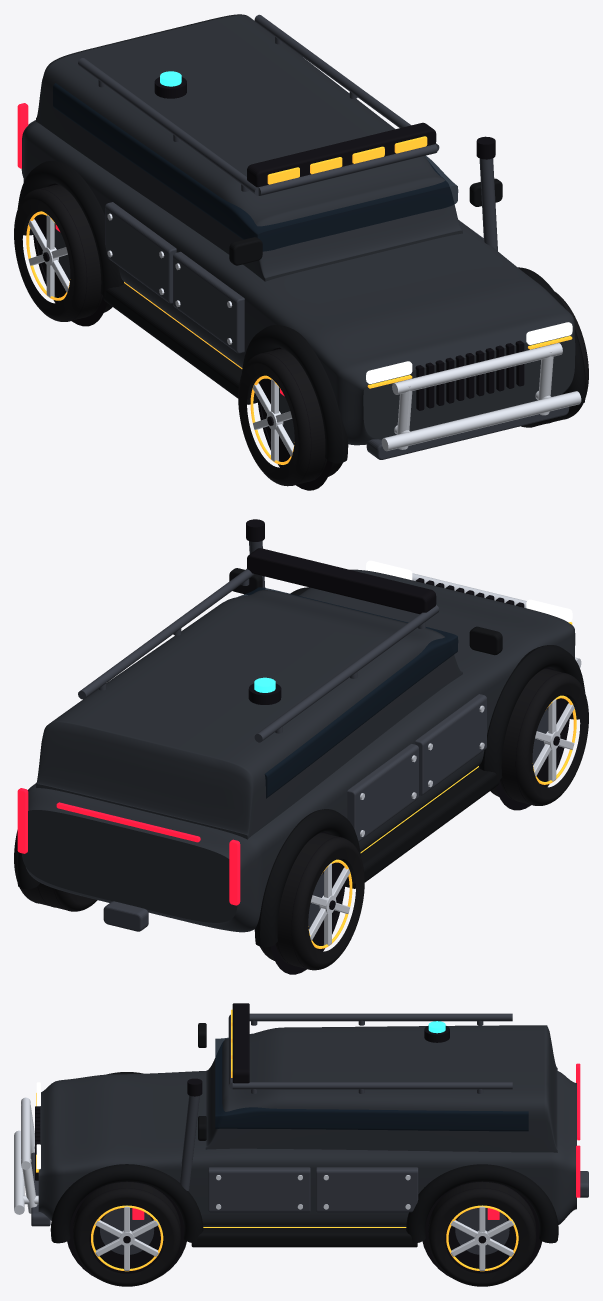
File: bastion.glb
3 views of the same model, one above another, from view 1: azimuth 30°, elevation 25°; view 2: azimuth 150°, elevation 25°; view 3: azimuth 270°, elevation 25° (orthographic). The views are drawn at different scales.
Visible parts, largest first — view 1: paint, gunmetal, paint2, rubber (×3), glass, carbon, chrome (×3), light_amber, light_head, neon; view 2: paint, rubber (×3), gunmetal, paint2, carbon, glass, chrome (×3), light_tail, light_head; view 3: paint, gunmetal (×3), paint2, rubber (×2), glass, carbon, chrome (×3), neon_soft (×2), light_tail.
Boxes of the visible parts, x1,y1,x2,y2 form: paint: (21, 14, 575, 445); gunmetal: (78, 14, 569, 459); paint2: (17, 161, 585, 463); rubber (×3): (14, 185, 588, 486); glass: (53, 83, 458, 251); carbon: (33, 77, 524, 490); chrome (×3): (28, 213, 581, 461); light_amber: (267, 136, 427, 184); light_head: (366, 322, 572, 383); neon: (124, 282, 572, 388); paint: (22, 569, 575, 932); rubber (×3): (14, 668, 588, 970); gunmetal: (78, 541, 486, 931); paint2: (17, 568, 585, 947); carbon: (246, 519, 569, 974); glass: (238, 587, 458, 798); chrome (×3): (309, 573, 581, 945); light_tail: (17, 788, 240, 905); light_head: (366, 560, 572, 622); paint: (38, 1025, 576, 1226); gunmetal (×3): (31, 1013, 588, 1254); paint2: (50, 1023, 558, 1247); rubber (×2): (73, 1181, 536, 1286); glass: (215, 1033, 528, 1131); carbon: (35, 1003, 542, 1278); chrome (×3): (14, 1097, 514, 1270); neon_soft (×2): (91, 1205, 518, 1271); light_tail: (576, 1063, 580, 1197).
Size of the model in its own units: 2.46 by 2.08 by 5.34.
